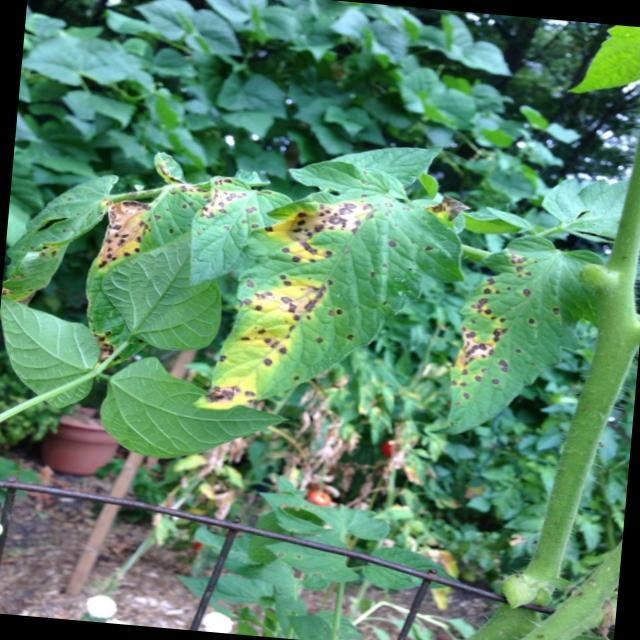Healthy Leaf: (100, 393, 282, 468), (0, 296, 98, 406)
Septoria: (206, 186, 414, 418), (453, 246, 572, 410), (152, 172, 266, 252), (100, 200, 148, 274)
